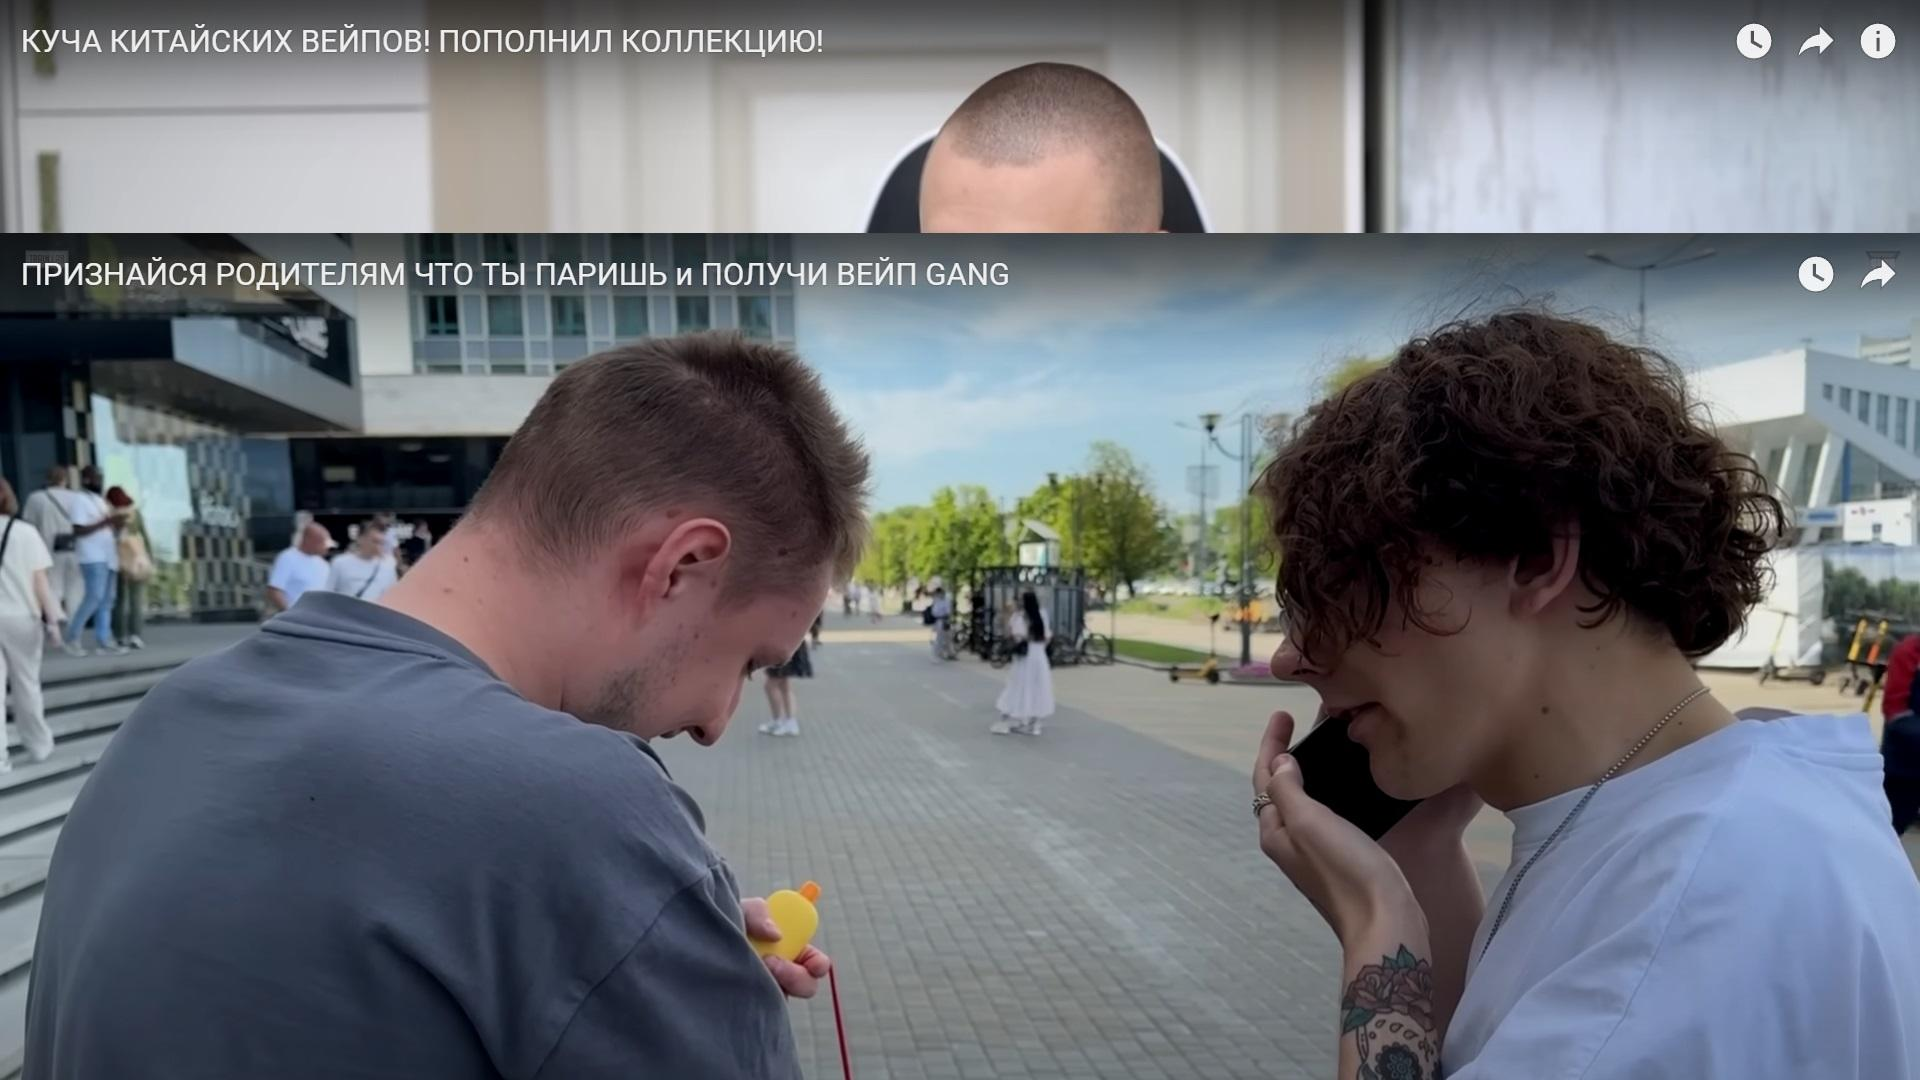Vape: (753, 881, 820, 960)
